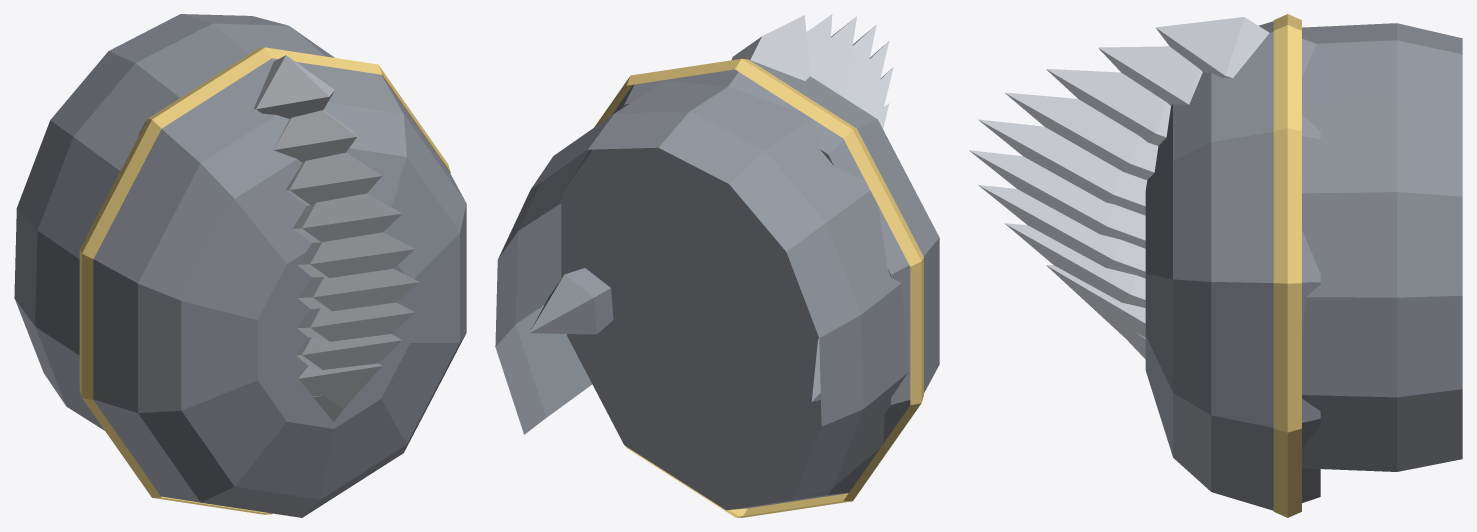
File: helm_crested.glb
The picture shows the model from 3 angles, left to right: view 1: azimuth 30°, elevation 25°; view 2: azimuth 150°, elevation 25°; view 3: azimuth 270°, elevation 25°; orthographic projection. The views are drawn at different scales.
Visible parts, largest first — view 1: Head; view 2: Head; view 3: Head.
Part boxes in pixels (<box>): Head: <box>14,14,466,517</box>; Head: <box>495,14,939,517</box>; Head: <box>969,14,1462,517</box>.
Size of the model in its own units: 0.7987 by 0.9904 by 0.9048.
